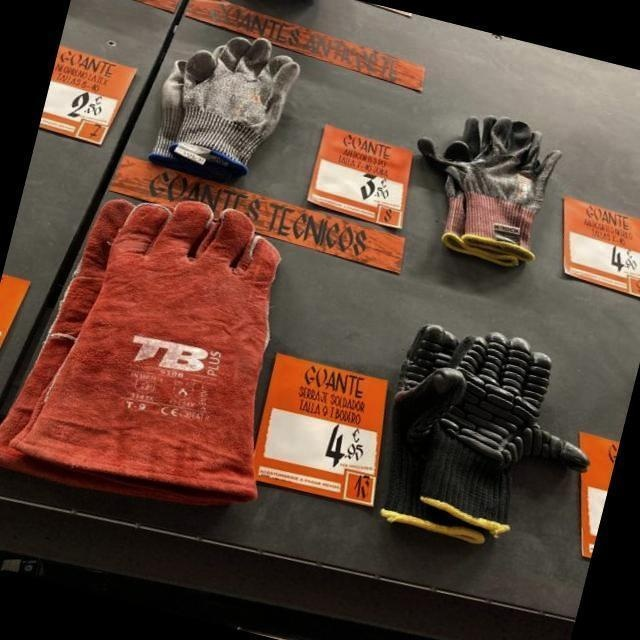Guantes: (95, 187, 277, 508), (401, 307, 561, 578), (178, 28, 300, 173)
